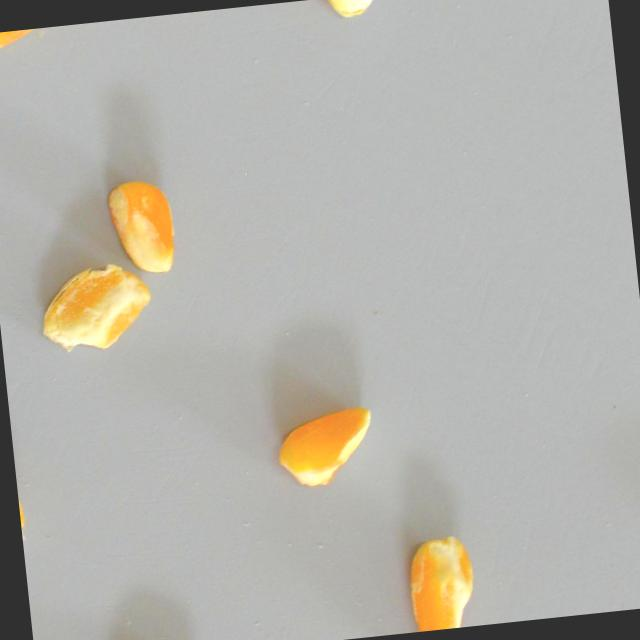estandar: (273, 405, 377, 490)
pelicula: (34, 259, 157, 358), (404, 530, 479, 632), (104, 176, 179, 277), (305, 0, 388, 22), (0, 26, 62, 54)
